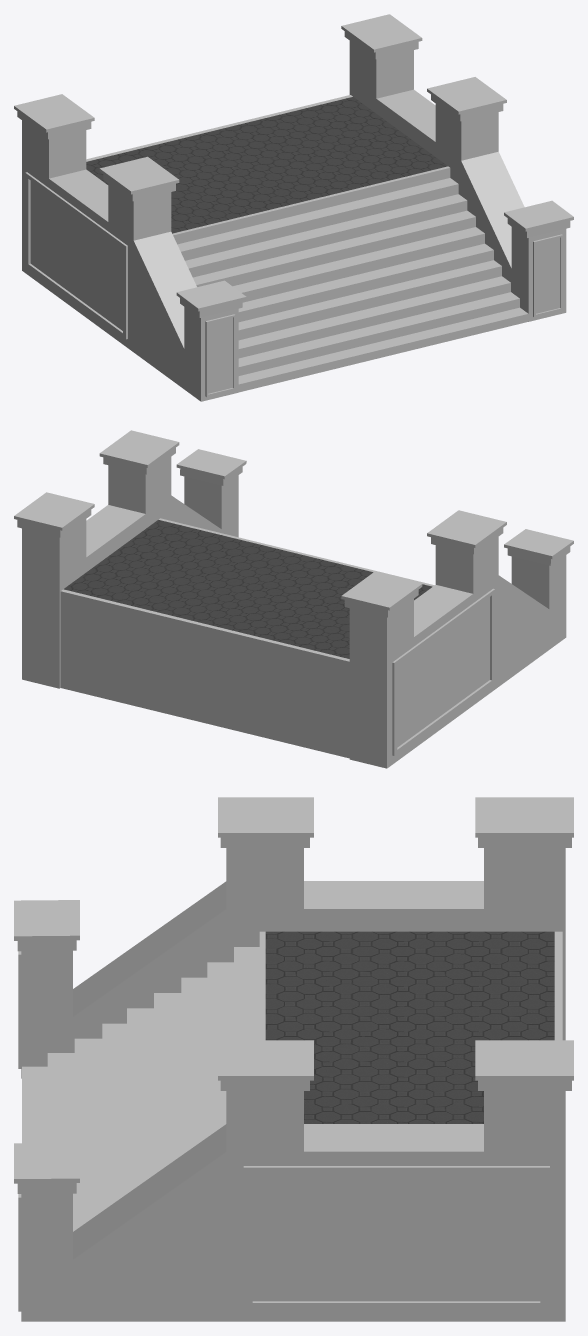
The model's file is objStairs.obj.
3 renders of one model, top to bottom at view 1: azimuth 30°, elevation 25°; view 2: azimuth 150°, elevation 25°; view 3: azimuth 270°, elevation 25°, orthographic. The views are drawn at different scales.
Visible parts, largest first — view 1: stairs; view 2: stairs; view 3: stairs.
Boxes of the visible parts, x1=… form: stairs: x1=14, y1=14, x2=573, y2=401; stairs: x1=14, y1=430, x2=573, y2=768; stairs: x1=14, y1=797, x2=573, y2=1321.
Size of the model in its own units: 6.18 by 2.58 by 5.25.
